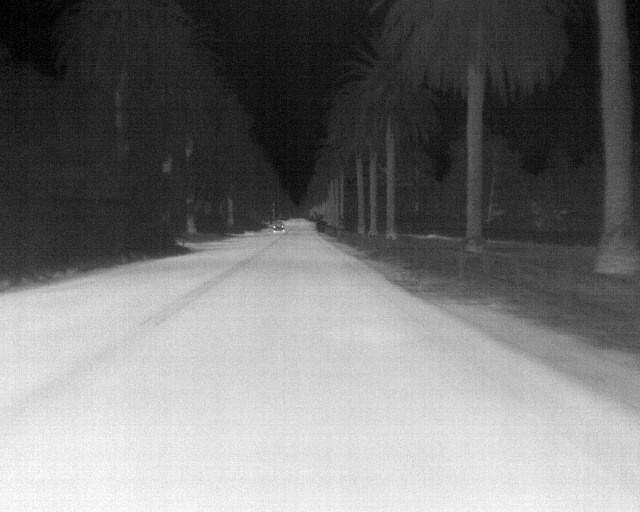vehicle: (271, 220, 285, 232)
